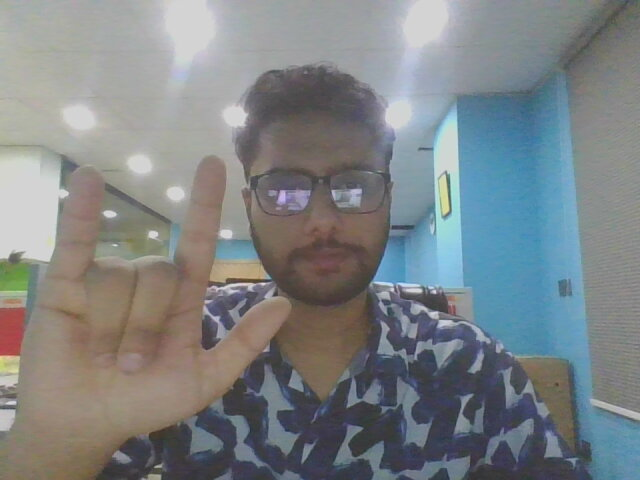iloveyou: (25, 153, 293, 447)
